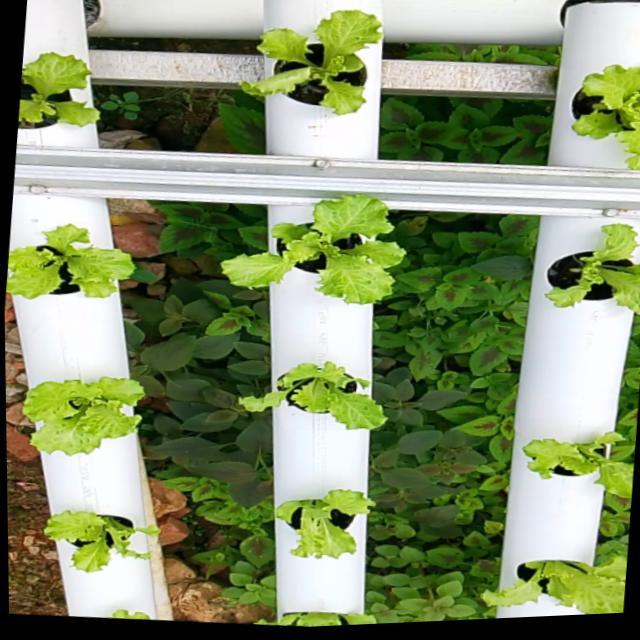Baby: (217, 198, 399, 304), (234, 15, 375, 119), (236, 361, 383, 428), (537, 224, 640, 316), (5, 227, 133, 301), (22, 377, 144, 454), (479, 551, 627, 614), (516, 429, 634, 497), (562, 69, 640, 171), (45, 509, 159, 570), (273, 487, 371, 555), (17, 57, 95, 132)
